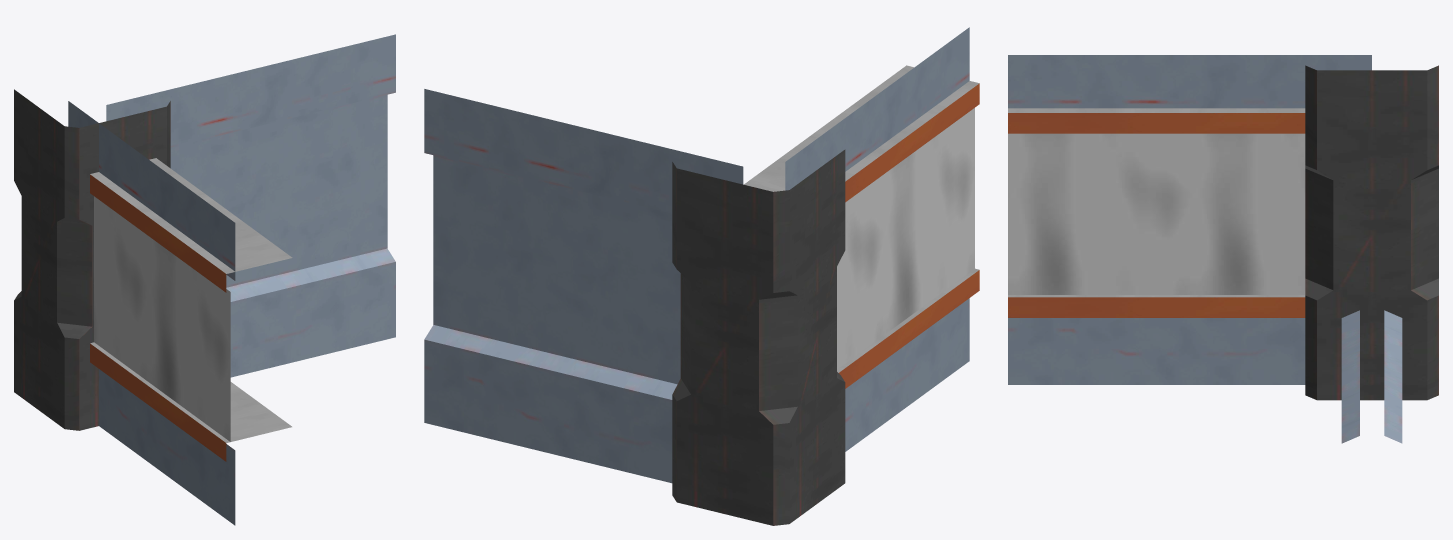
File: Wall_WindowCorner_2_A.glb
The picture shows the model from 3 angles, left to right: view 1: azimuth 30°, elevation 25°; view 2: azimuth 150°, elevation 25°; view 3: azimuth 270°, elevation 25°; orthographic projection. The views are drawn at different scales.
Parts seen in each view (by area): view 1: Wall_WindowCorner_2_A; view 2: Wall_WindowCorner_2_A; view 3: Wall_WindowCorner_2_A.
Boxes of the visible parts, left/top/right/bottom form: Wall_WindowCorner_2_A: left=14, top=34, right=395, bottom=525; Wall_WindowCorner_2_A: left=424, top=27, right=979, bottom=525; Wall_WindowCorner_2_A: left=1008, top=55, right=1438, bottom=443.
Bounding box in the file's own units: 7.1 × 6 × 7.1.
Materials: 3 (3 with a texture image).
